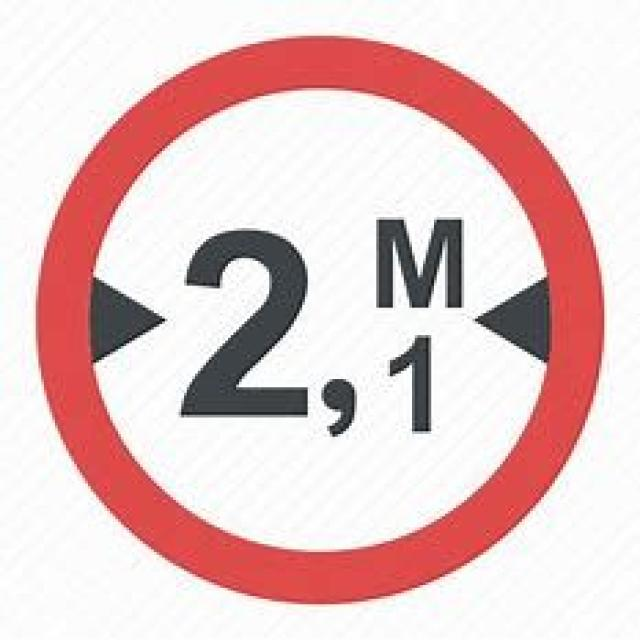WIDTH_LIMIT: (28, 23, 624, 616)
